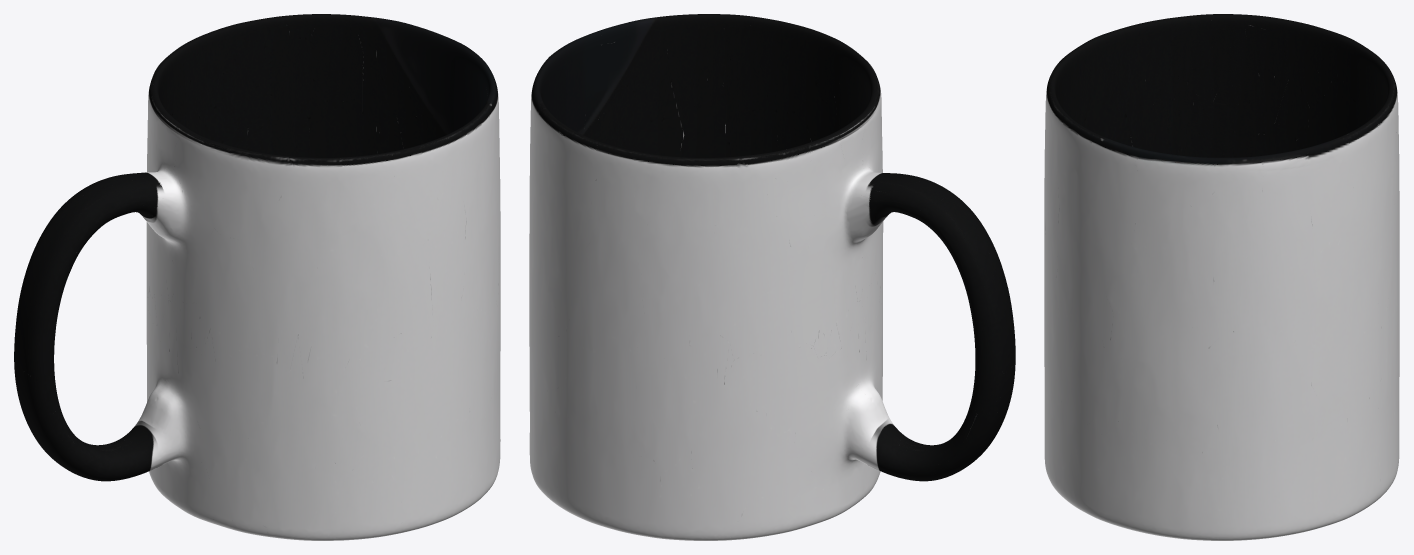
The model's file is mug.glb.
The picture shows the model from 3 angles, left to right: view 1: azimuth 30°, elevation 25°; view 2: azimuth 150°, elevation 25°; view 3: azimuth 270°, elevation 25°; orthographic projection.
Visible parts, largest first — view 1: MUG_BODY; view 2: MUG_BODY; view 3: MUG_BODY.
Boxes of the visible parts, box(x1,y1,x2,y2) form: MUG_BODY: box(14, 14, 500, 540); MUG_BODY: box(529, 14, 1015, 540); MUG_BODY: box(1044, 14, 1399, 540).
Size of the model in its own units: 0.119 by 0.096 by 0.0803.
2 materials, 1 textured.
